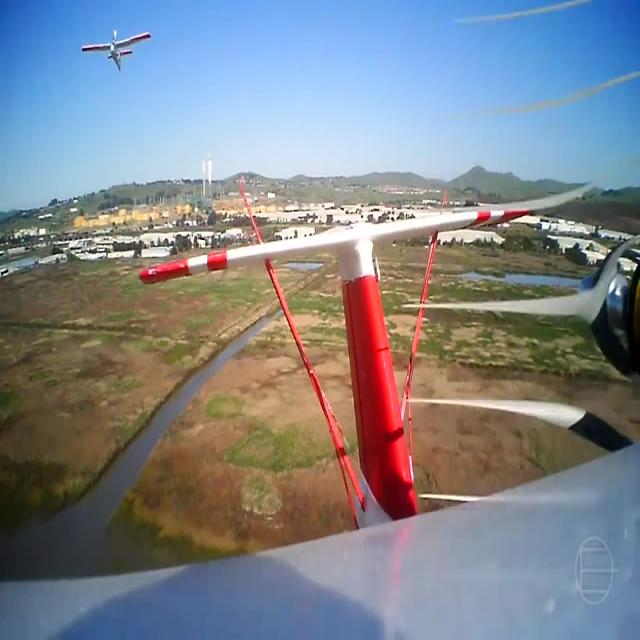iha: (50, 29, 55, 72)
